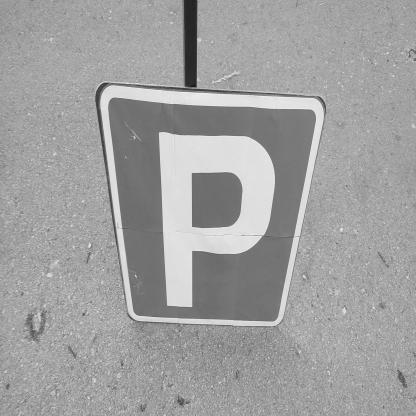Parking-Sign: (96, 81, 328, 329)
